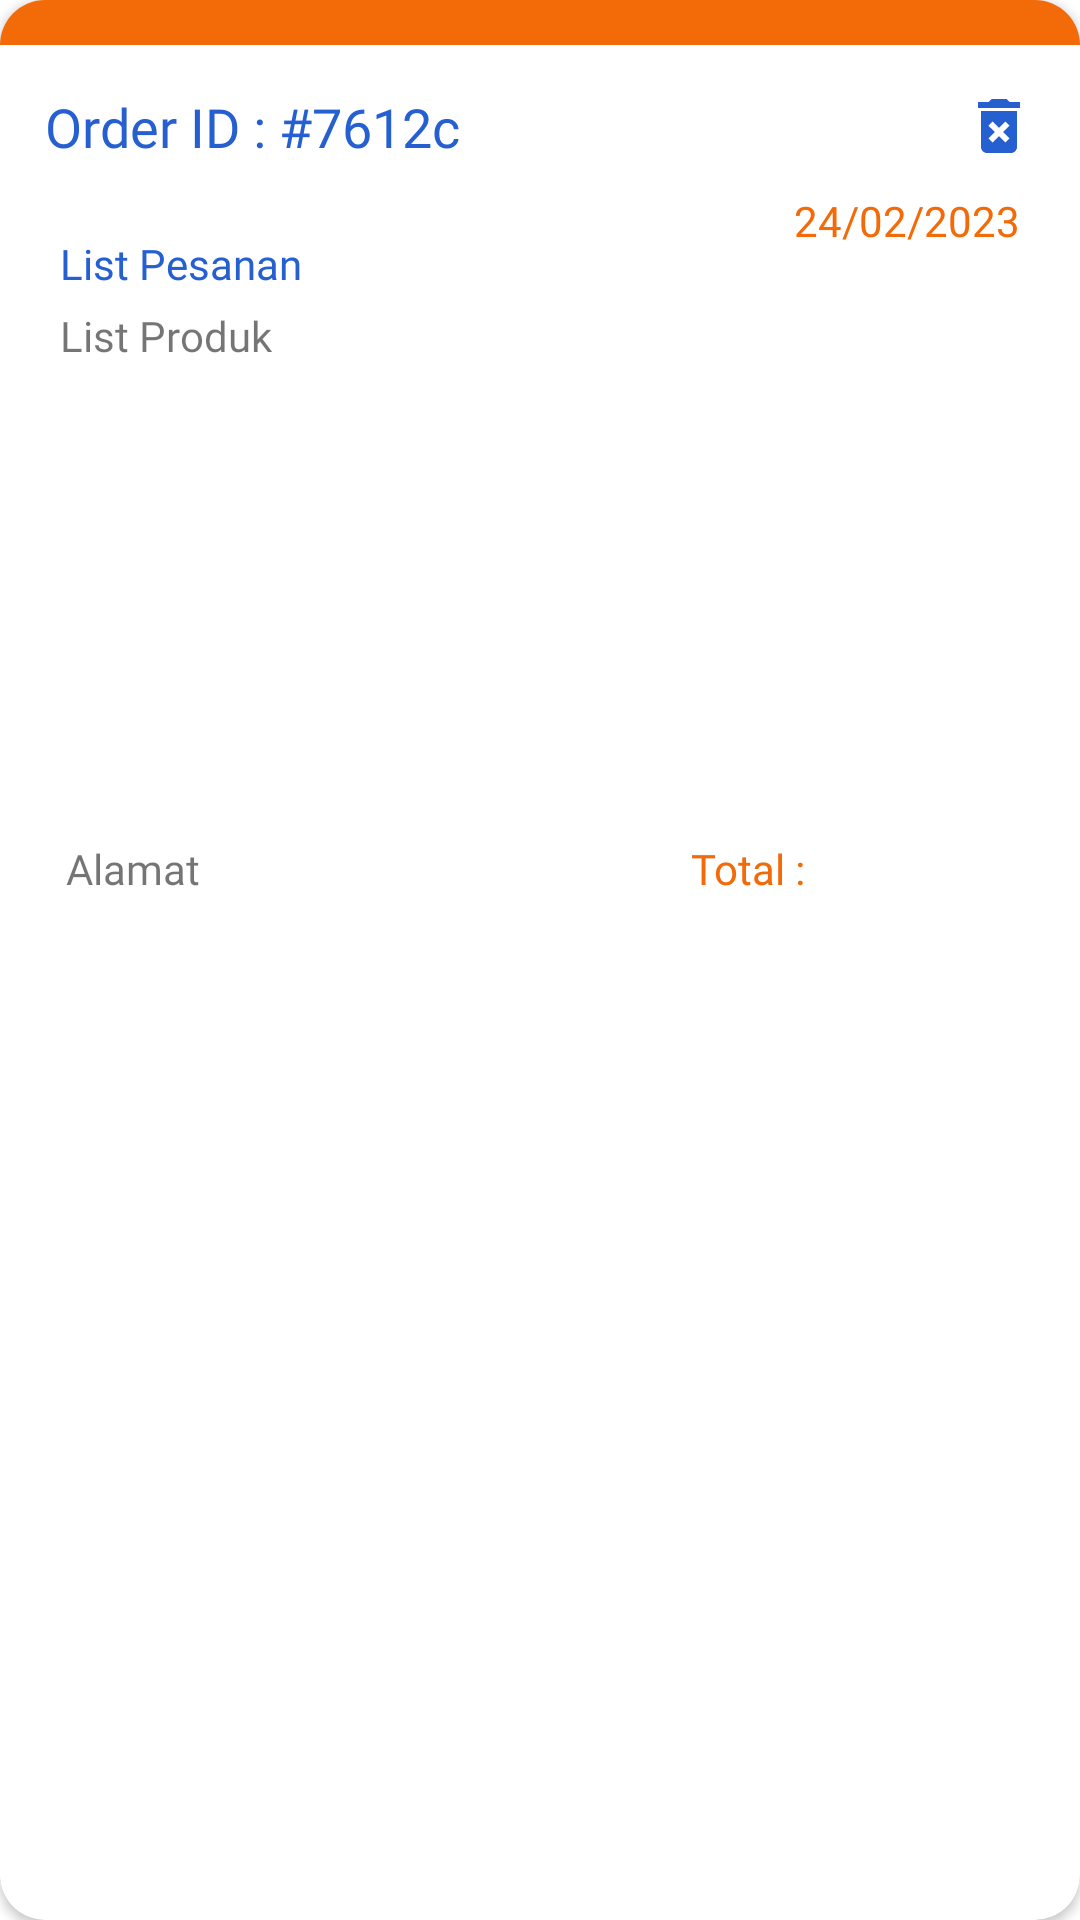

Screen size 1080w x 1920h. Icon name, then its box in pixels as [x1, y1, x2, y2]:
delete forever: [978, 99, 1020, 153]
